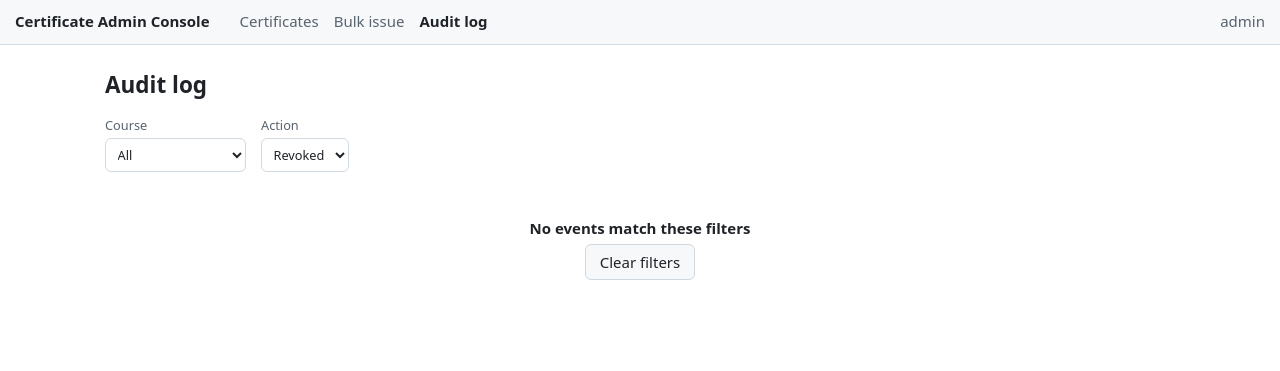
Test case: AuditLogPage › says when filters match nothing, and clears them
Check: the text "No events match these filters" is shown, box [530,218,750,238]
Click the button "Clear filters". click: click(640, 262)
box: [585,244,695,280]
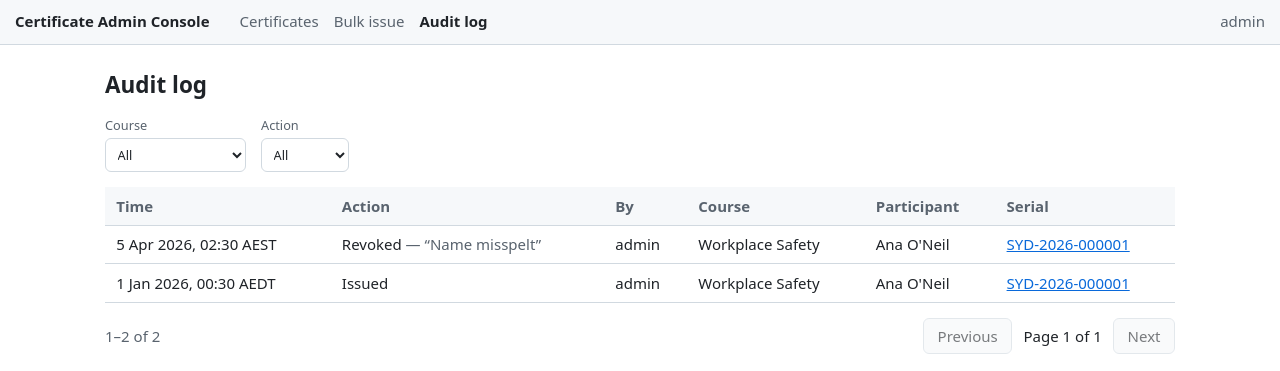
Check: the table is shown, box [105,187,1175,303]
